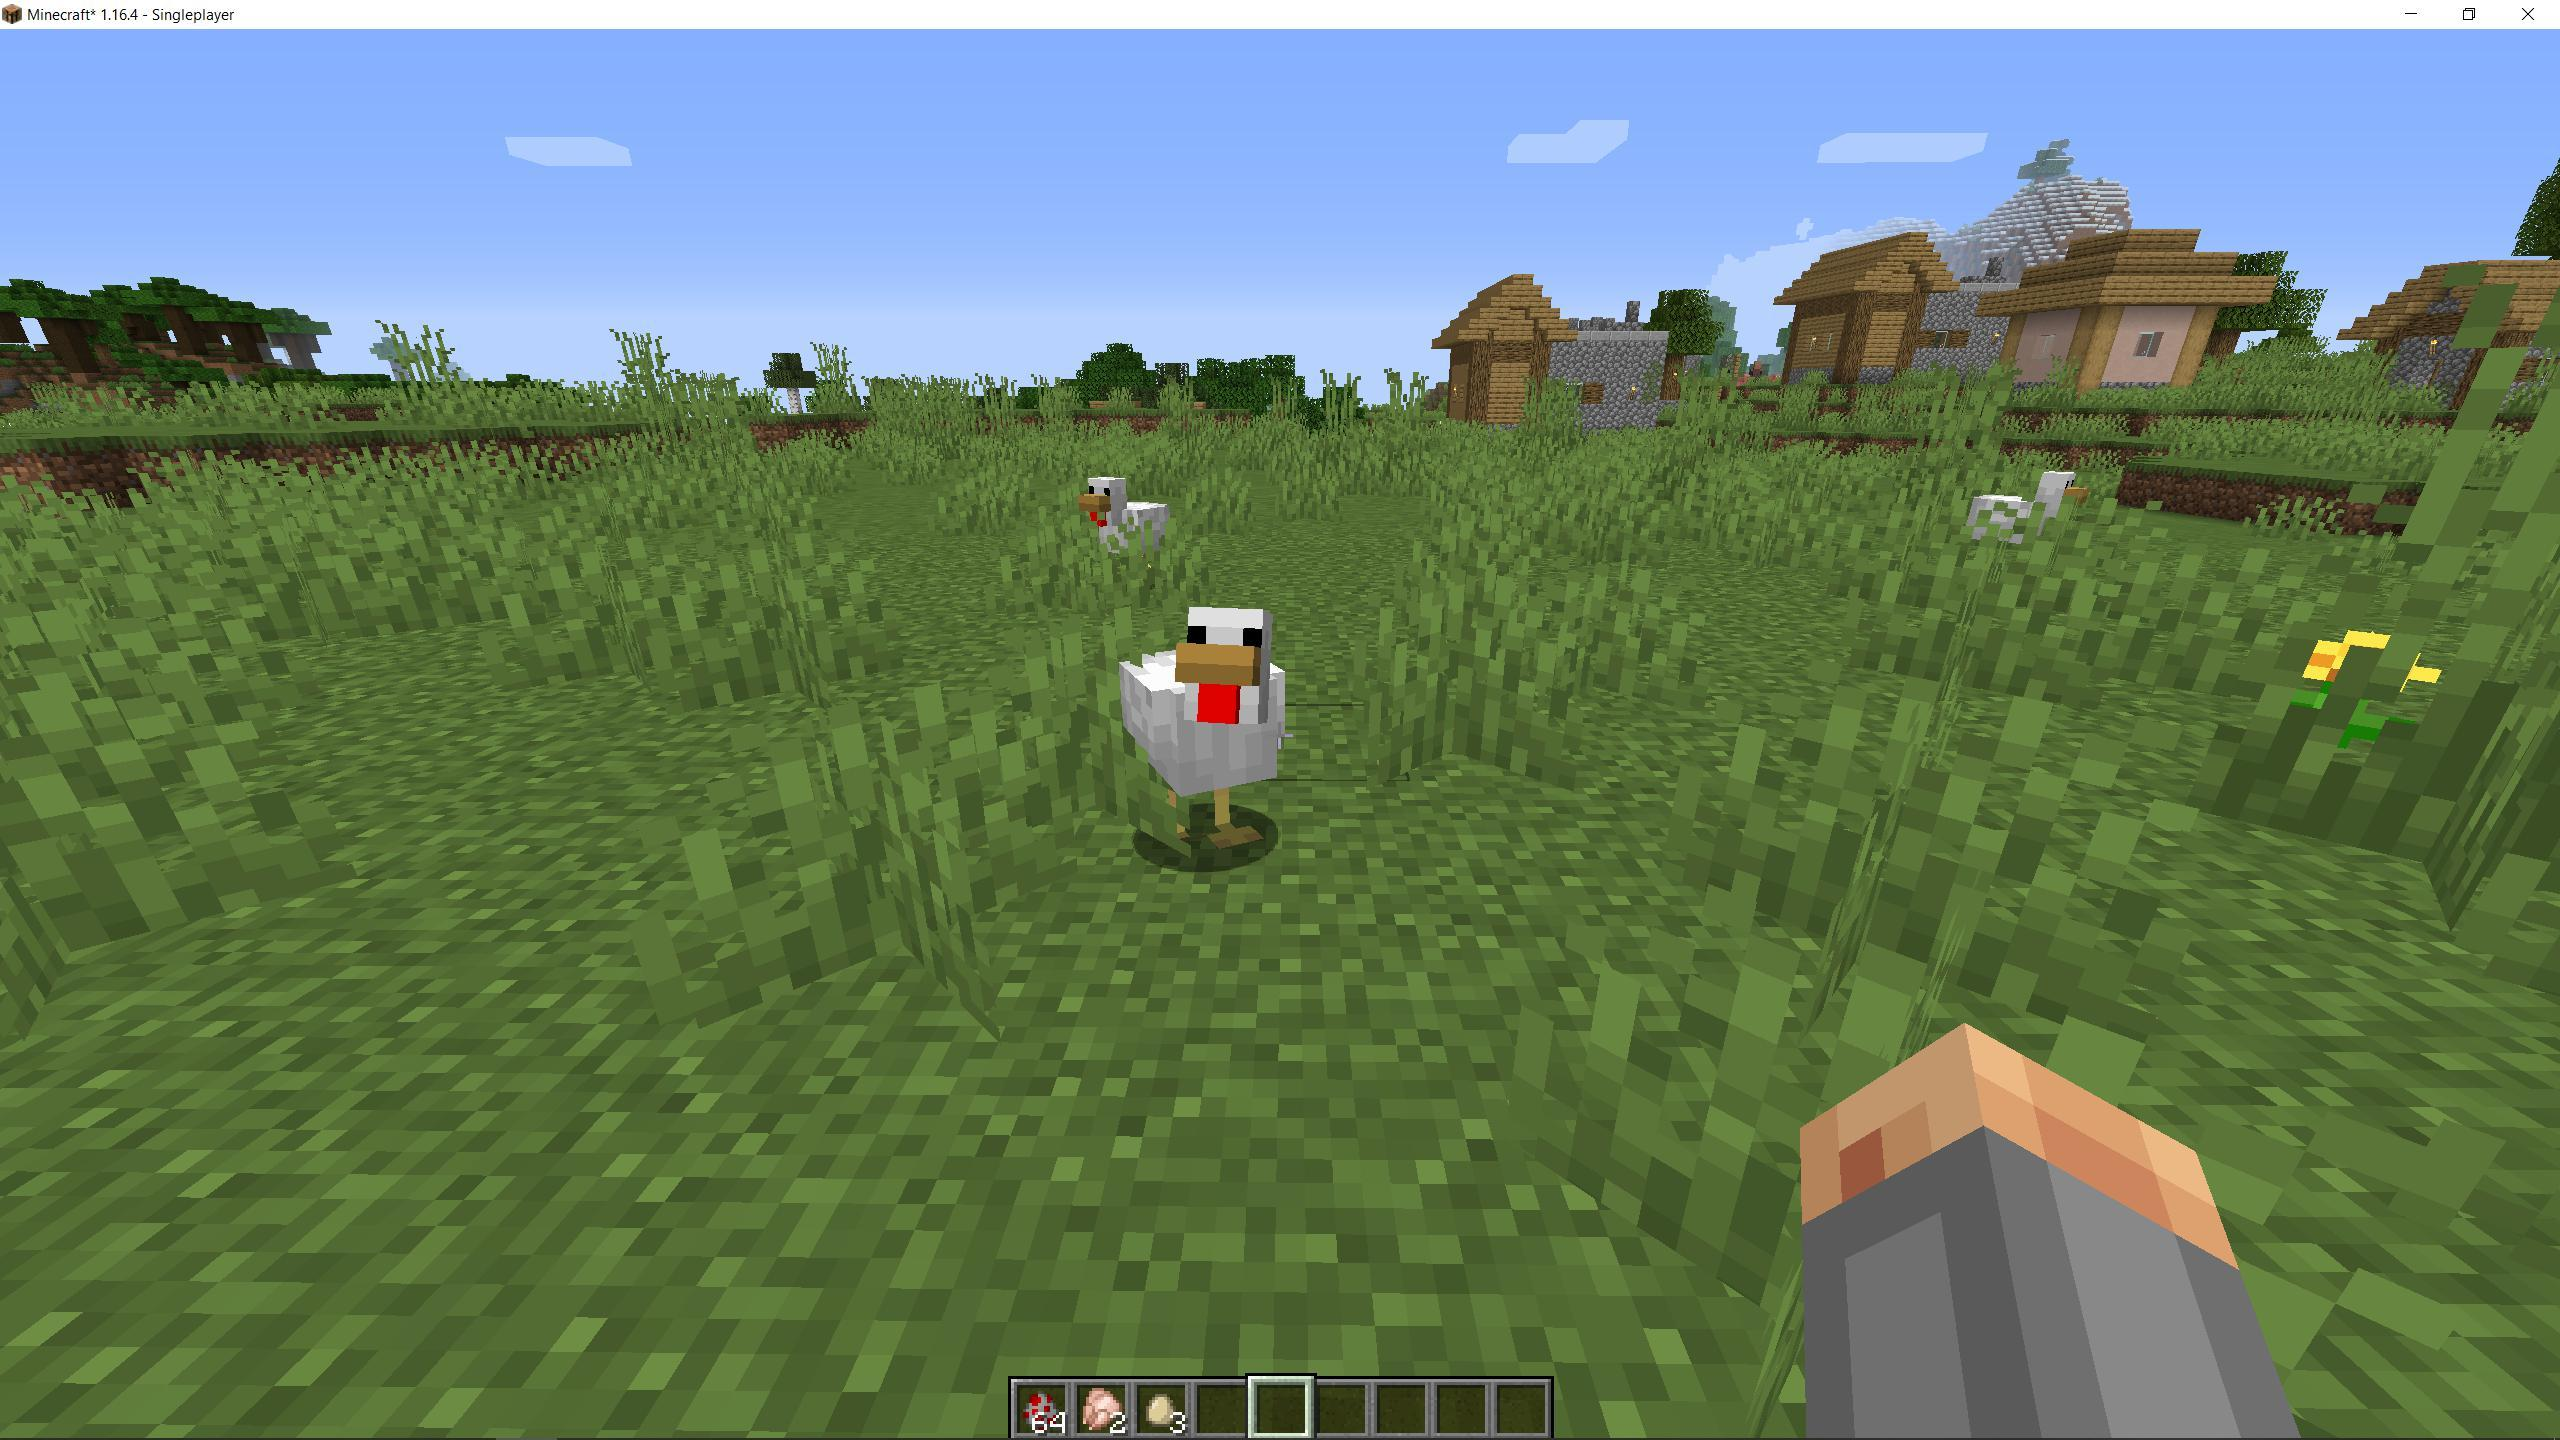chicken: (1115, 598, 1308, 867), (1966, 455, 2101, 584), (1078, 464, 1183, 564)
